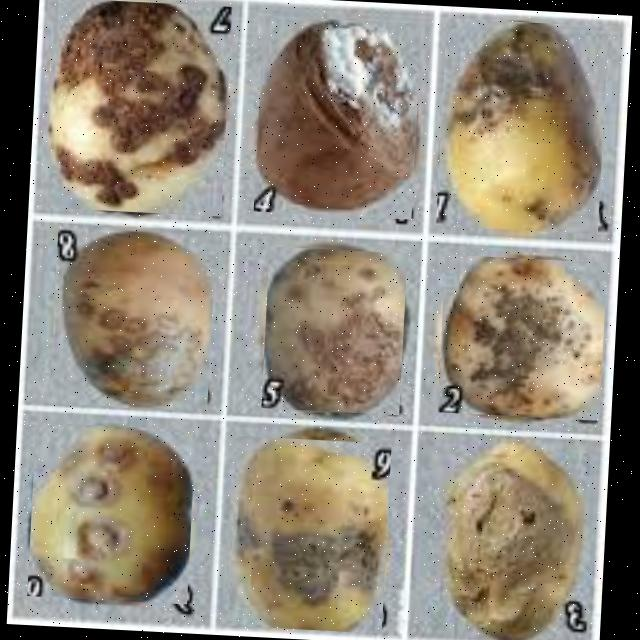Damaged potato: (254, 16, 422, 220)
Diseased-fungal potato: (43, 0, 232, 216), (436, 18, 609, 235), (437, 439, 604, 640), (228, 436, 392, 634), (50, 224, 216, 412), (27, 422, 196, 604), (438, 254, 608, 420), (262, 247, 408, 416)
